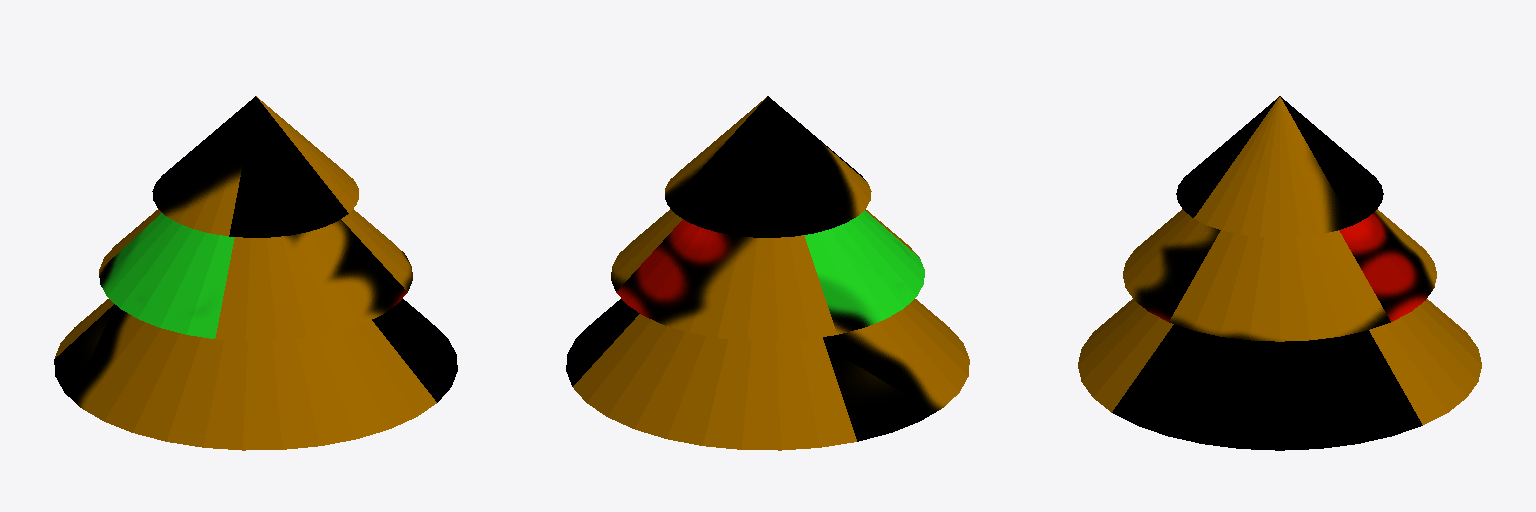
The picture shows the model from 3 angles: view 1: azimuth 30°, elevation 25°; view 2: azimuth 150°, elevation 25°; view 3: azimuth 270°, elevation 25°; orthographic projection.
Parts seen in each view (by area): view 1: Cone.002; view 2: Cone.002; view 3: Cone.002.
Part boxes in pixels (x1,y1,x2,y2): Cone.002: (54, 96, 457, 450); Cone.002: (566, 96, 969, 450); Cone.002: (1078, 96, 1481, 450).
Size of the model in its own units: 4.55 by 3.97 by 4.55.
1 materials, 1 textured.